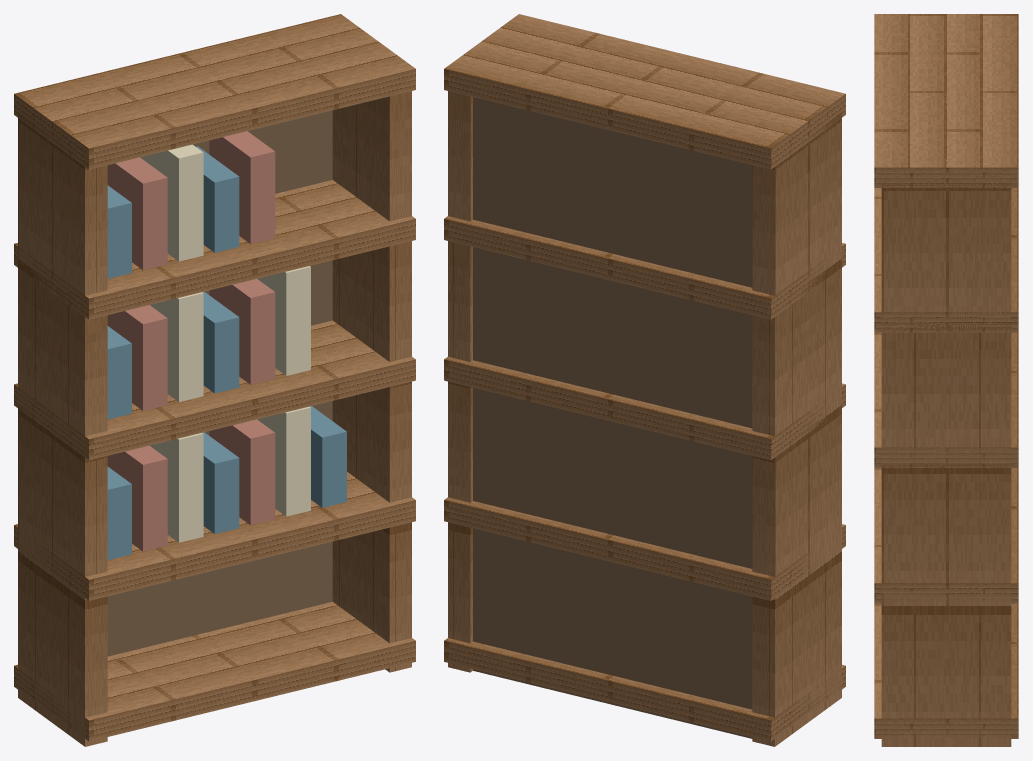
The model's file is bench_cushion.glb.
3 views of the same model, side by side, from view 1: azimuth 30°, elevation 25°; view 2: azimuth 150°, elevation 25°; view 3: azimuth 270°, elevation 25° (orthographic). The views are drawn at different scales.
Parts seen in each view (by area): view 1: Shelves, Sides, Books1, Books2, Back, Books0; view 2: Back, Shelves, Sides; view 3: Sides, Shelves.
Part boxes in pixels (x1=…): Shelves: x1=14, y1=14, x2=415, y2=741; Sides: x1=18, y1=91, x2=411, y2=746; Books1: x1=107, y1=131, x2=275, y2=551; Books2: x1=140, y1=144, x2=310, y2=542; Back: x1=107, y1=110, x2=332, y2=656; Books0: x1=107, y1=146, x2=346, y2=559; Back: x1=473, y1=97, x2=752, y2=738; Shelves: x1=444, y1=14, x2=845, y2=741; Sides: x1=448, y1=91, x2=841, y2=746; Sides: x1=881, y1=182, x2=1011, y2=746; Shelves: x1=874, y1=14, x2=1018, y2=738.
Size of the model in its own units: 1.46 by 2.57 by 0.58.
5 materials, 1 textured.
